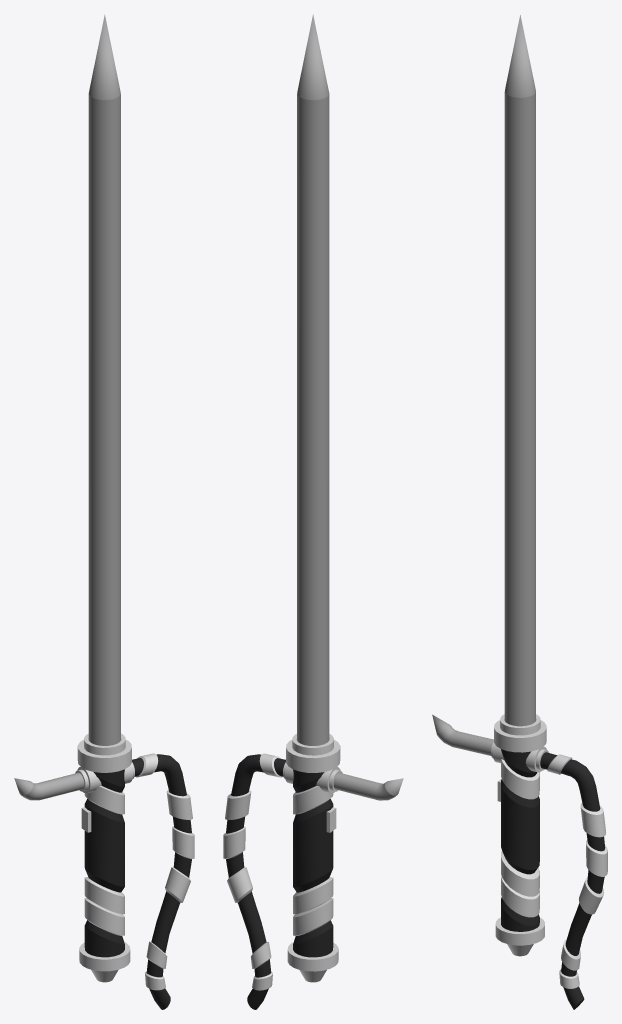
Rendered from HoloBlade_Whole.fbx.
The picture shows the model from 3 angles, left to right: view 1: azimuth 30°, elevation 25°; view 2: azimuth 150°, elevation 25°; view 3: azimuth 330°, elevation 25°; orthographic projection. The views are drawn at different scales.
Visible parts, largest first — view 1: HoloBlade_Blade, polySurface4, polySurface14; view 2: HoloBlade_Blade, polySurface4, polySurface14; view 3: HoloBlade_Blade, polySurface4, polySurface14.
Part boxes in pixels (<box>): HoloBlade_Blade: <box>14,14,120,800</box>; polySurface4: <box>75,733,194,990</box>; polySurface14: <box>84,754,191,1009</box>; HoloBlade_Blade: <box>297,14,403,800</box>; polySurface4: <box>223,734,342,990</box>; polySurface14: <box>226,754,333,1009</box>; HoloBlade_Blade: <box>432,15,535,755</box>; polySurface4: <box>491,714,607,988</box>; polySurface14: <box>501,749,605,1009</box>.
Size of the model in its own units: 23.7 by 128 by 6.24.
2 materials, 1 textured.
